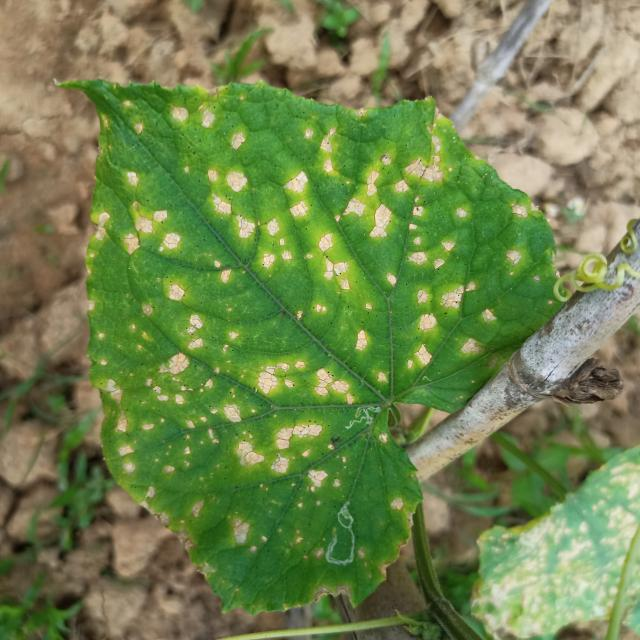disease_cucumber: (94, 111, 532, 565)
